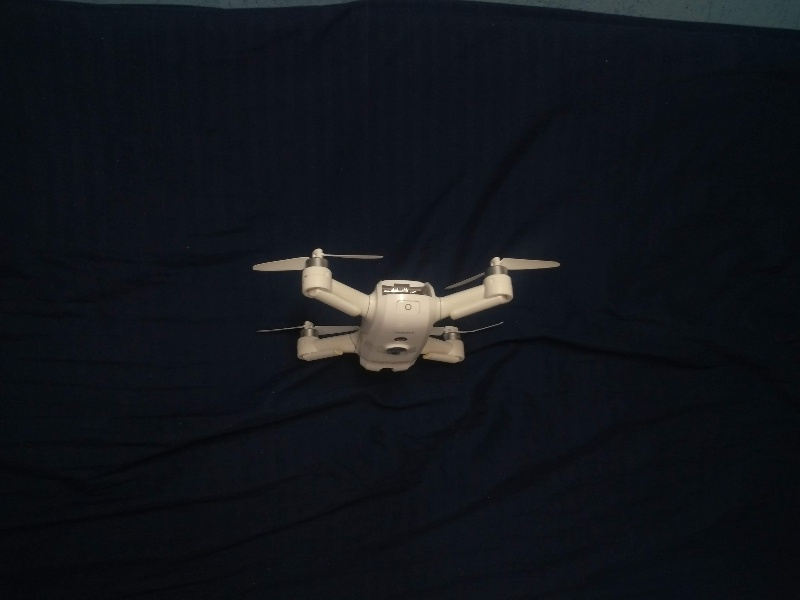drone: (254, 234, 557, 375)
